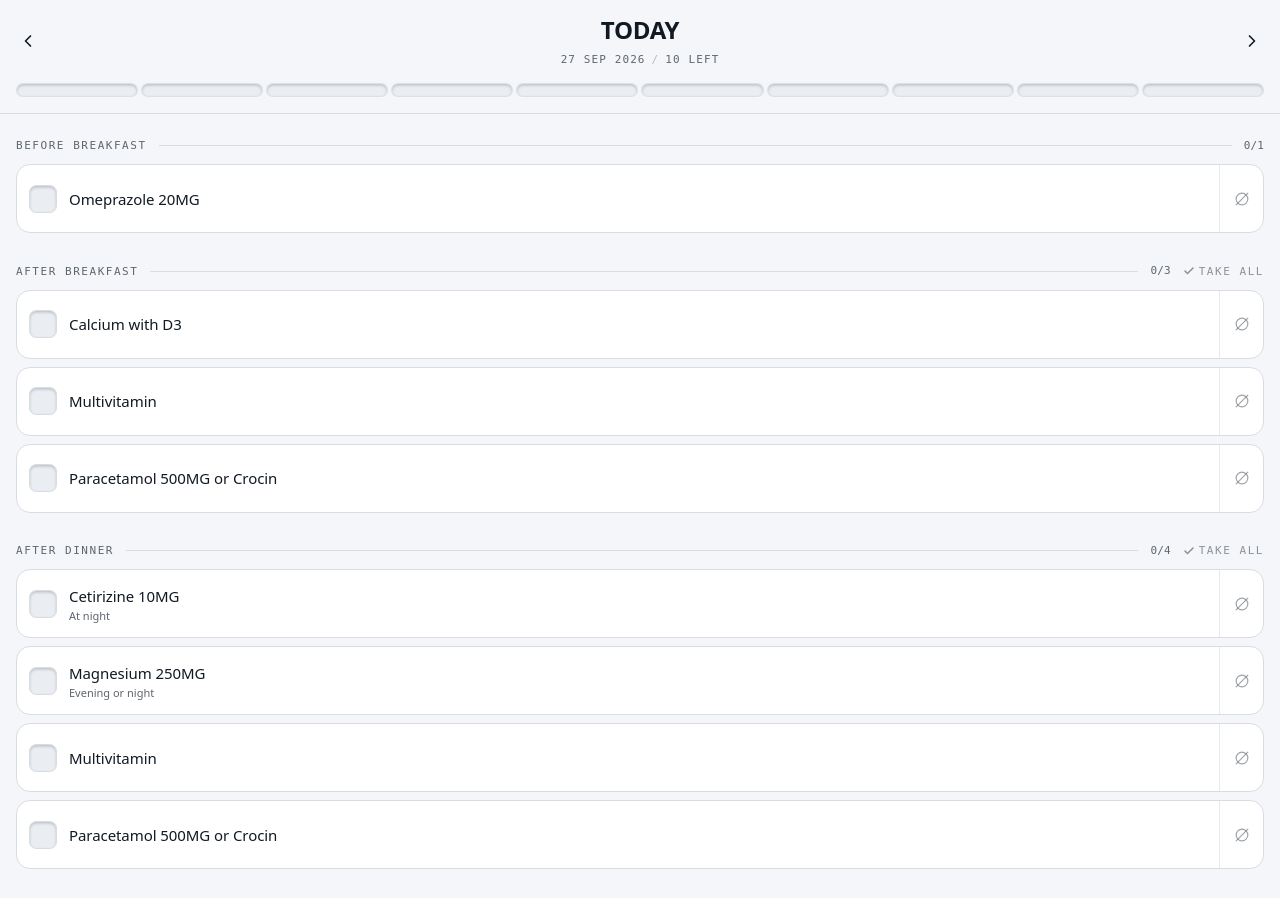
the Today screen › records a dose, shows the time, and lets you undo a mis-tap
Click the button "Omeprazole 20MG". click: (134, 198)
box: [17,165,1219,232]
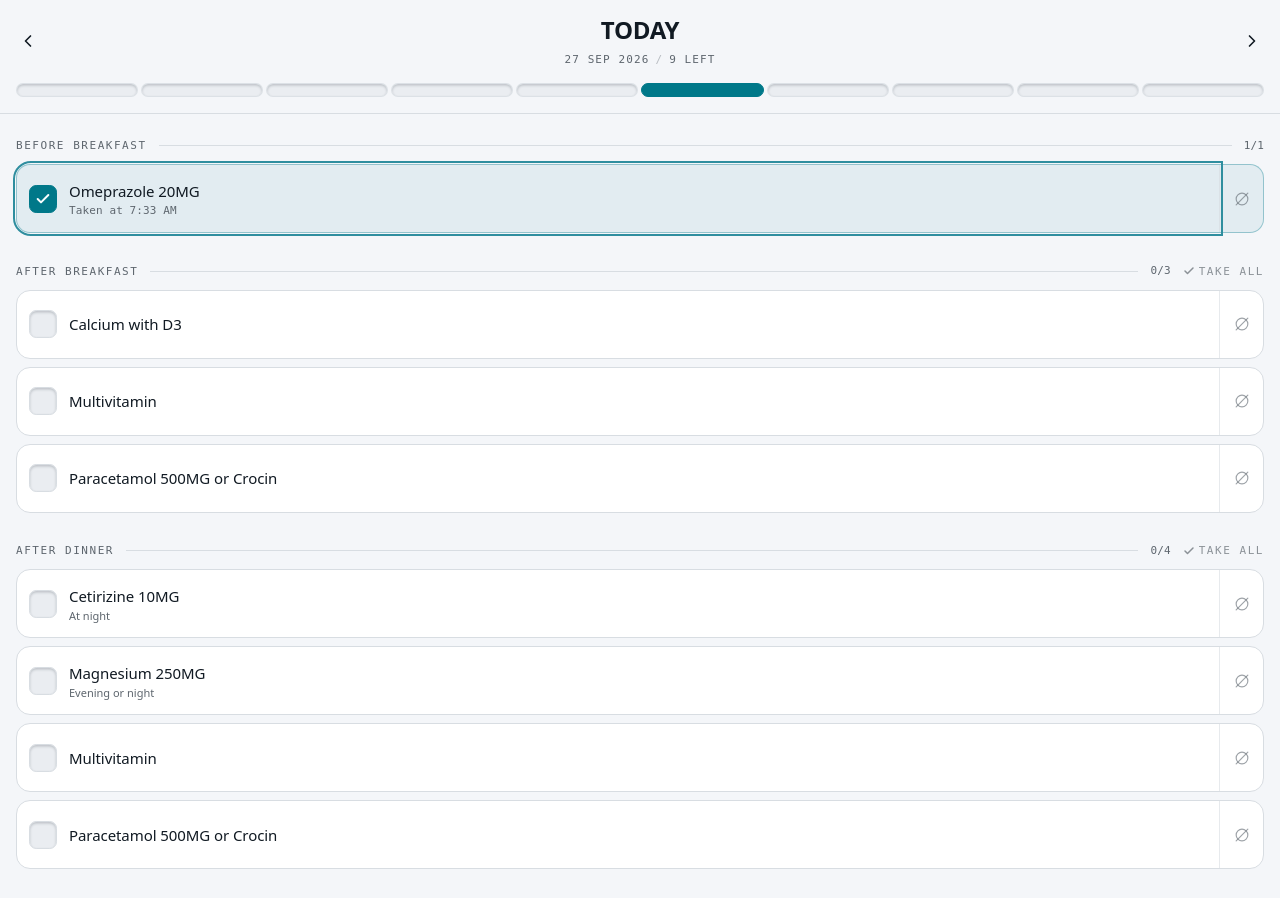
Expected: the text "Taken at 7:33 AM" is shown, [69,204,177,217]
Expected: the text "9 left" is shown, [669,53,716,66]
Click the button "Omeprazole 20MG Taken at 7:33 AM". click: (134, 191)
box: [17,165,1219,232]
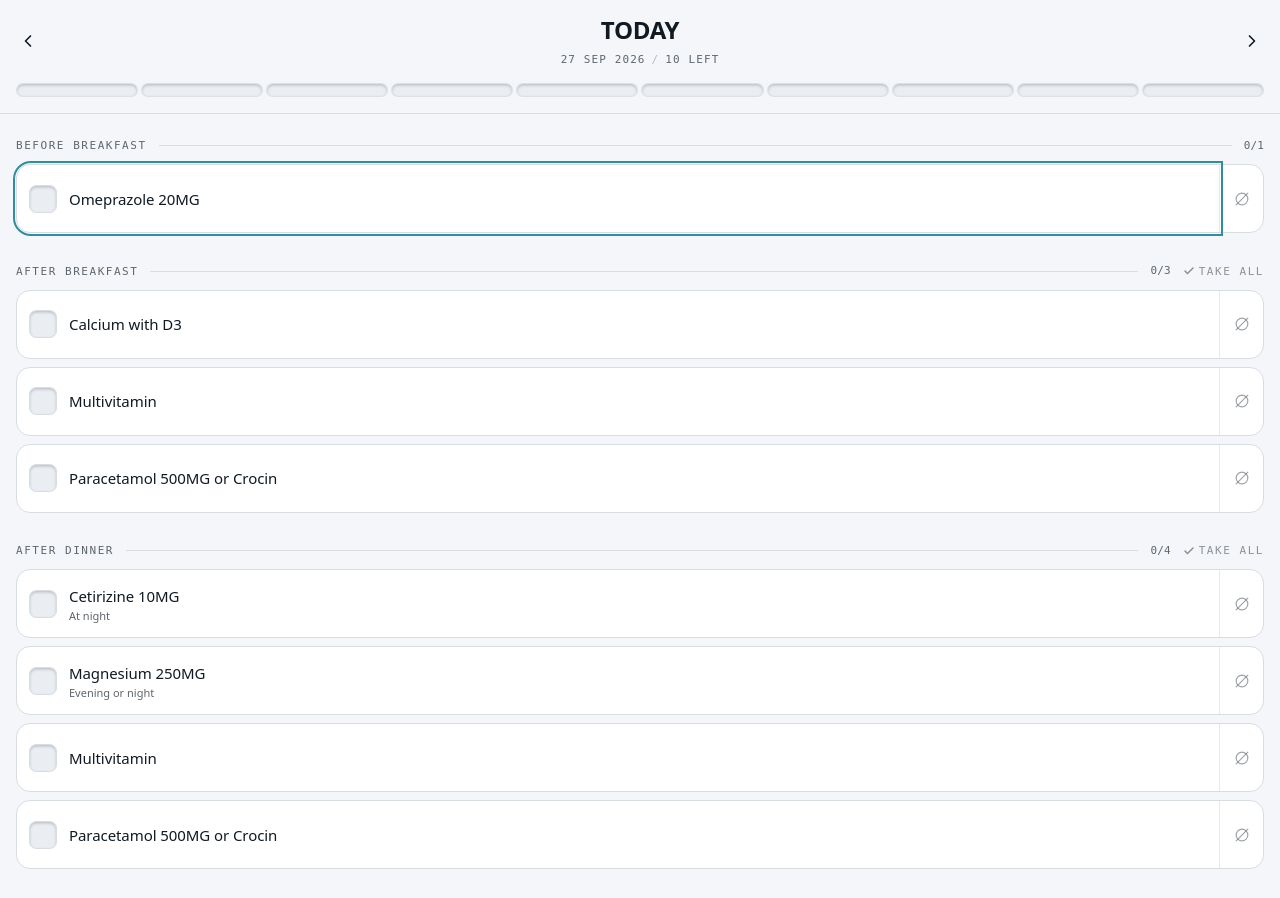
Expected: the text "10 left" is shown, [665,53,719,66]
